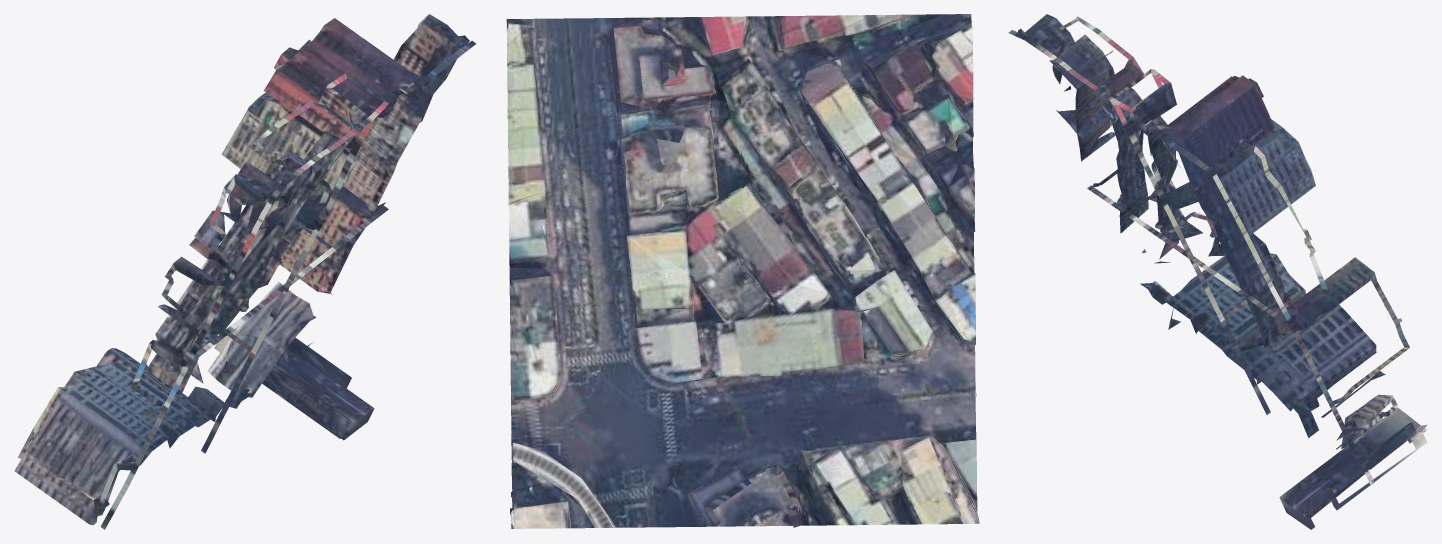
3 views of the same model, side by side, from view 1: azimuth 30°, elevation 25°; view 2: azimuth 150°, elevation 25°; view 3: azimuth 270°, elevation 25° (orthographic). The views are drawn at different scales.
Size of the model in its own units: 171 by 163 by 149.
1 material, 1 textured.
